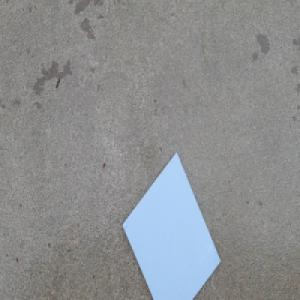PaintChip: (120, 147, 221, 300)
